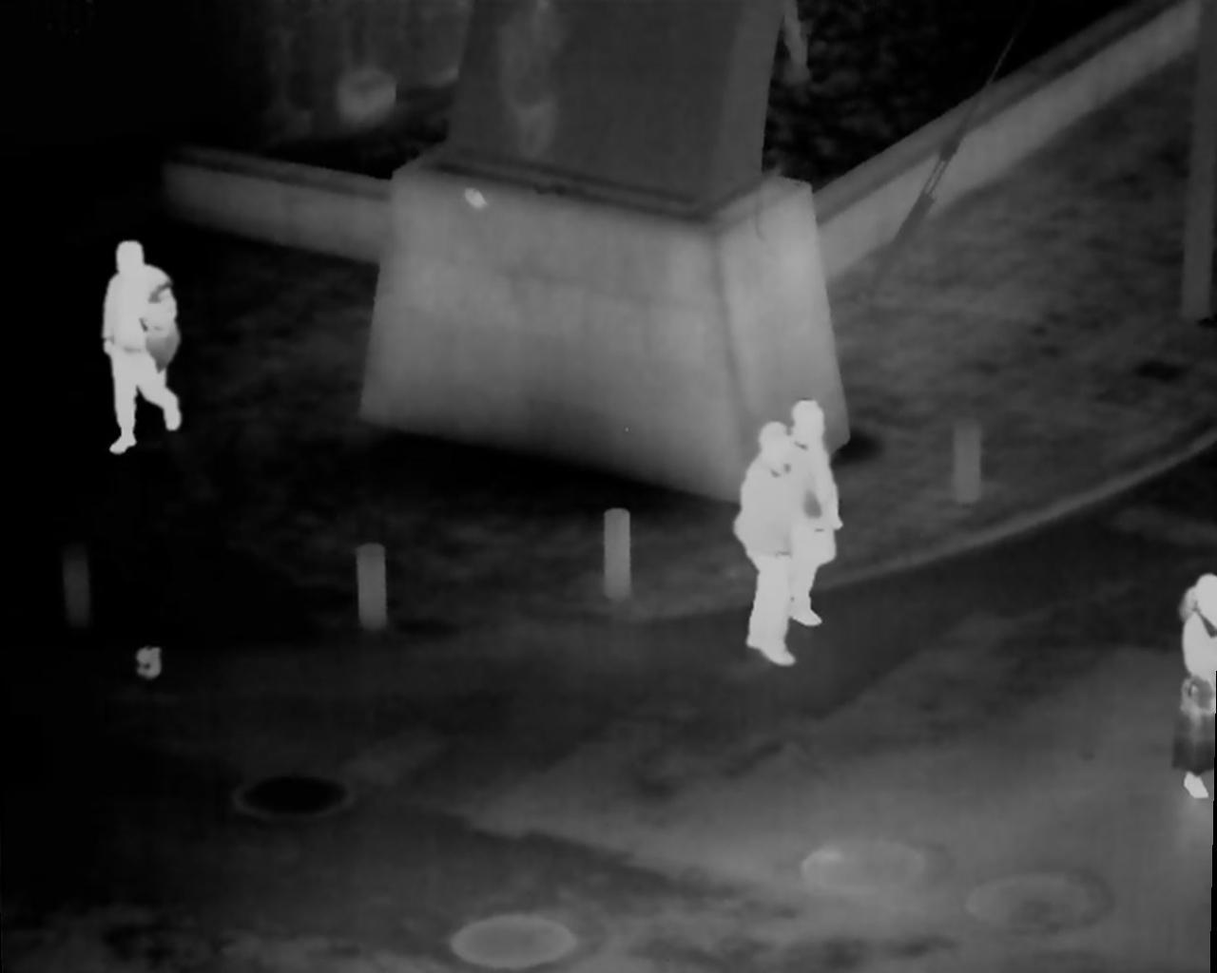person: (100, 240, 184, 452), (736, 424, 801, 670), (783, 398, 844, 628), (1177, 569, 1214, 801)
